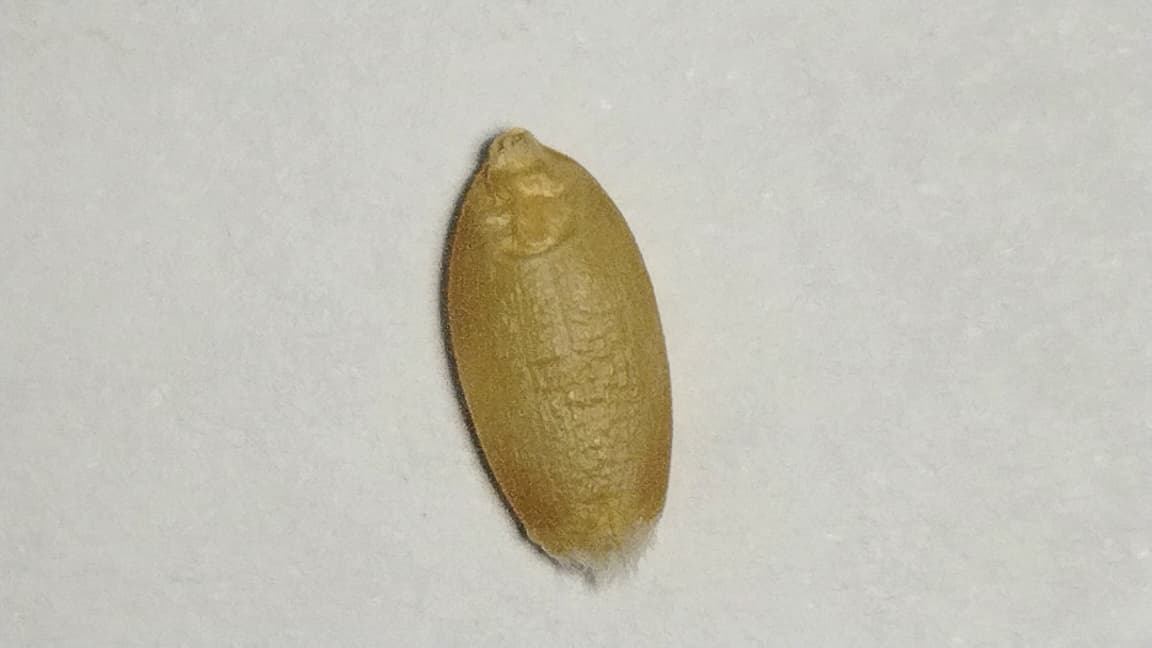healthy: (441, 128, 671, 570)
